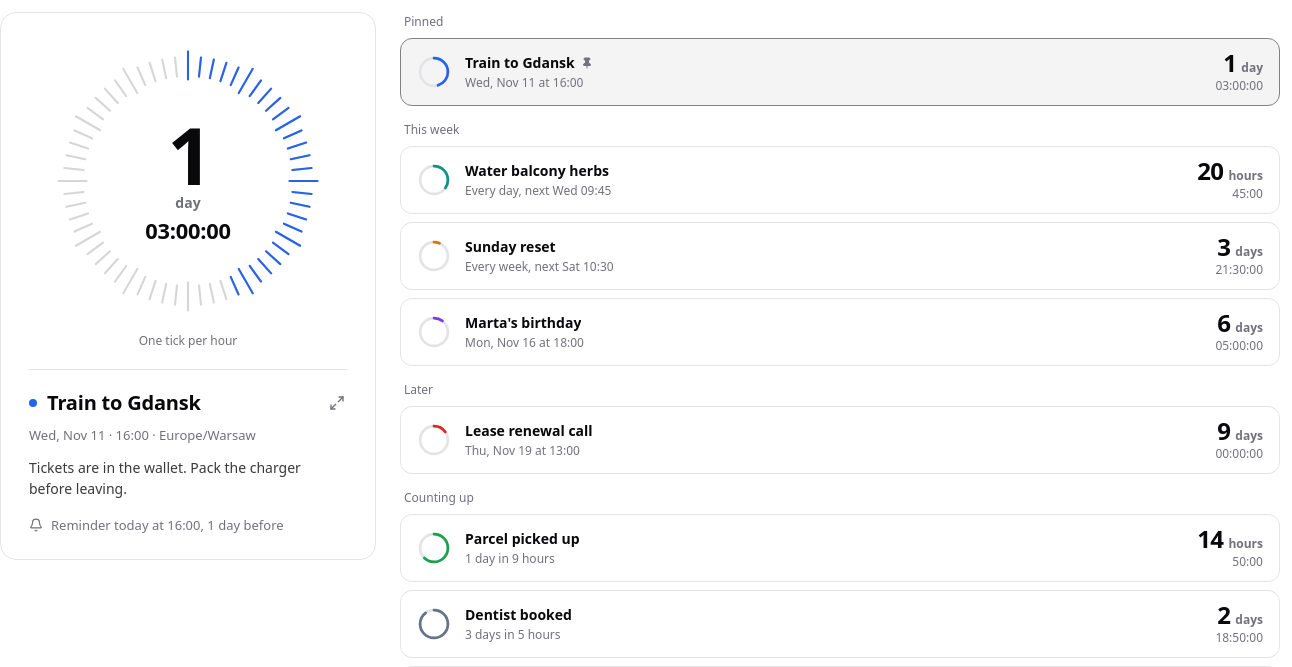
Test case: DialDashboard › shows a selected row on the dial and reports the selection
The width and height of the screenshot is (1292, 667).
Click the button with aria-label "Show Parcel picked up" at (434, 548), box [400,514,1280,582]
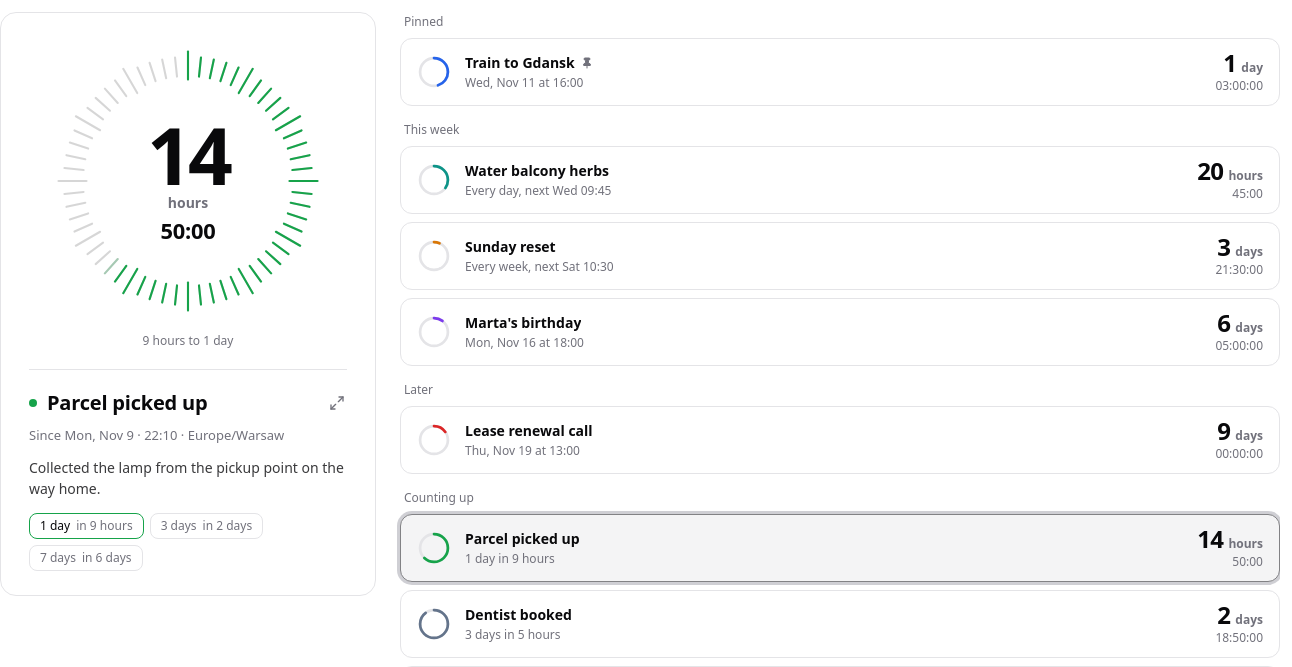
Now the list named "Milestones" shows "1 day", box [40,517,70,534]
Now the element with test id "dial-hero" shows "9 hours to 1 day", box [143,332,233,349]
